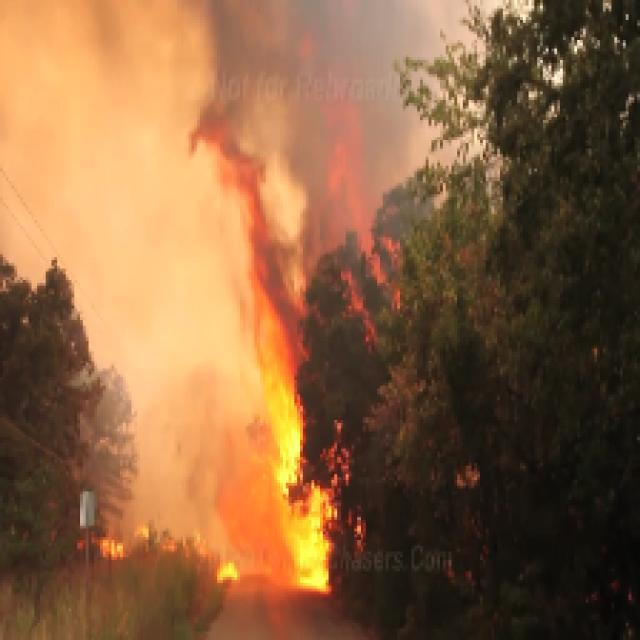Fire: (180, 108, 457, 614)
Smoke: (6, 6, 554, 223)
